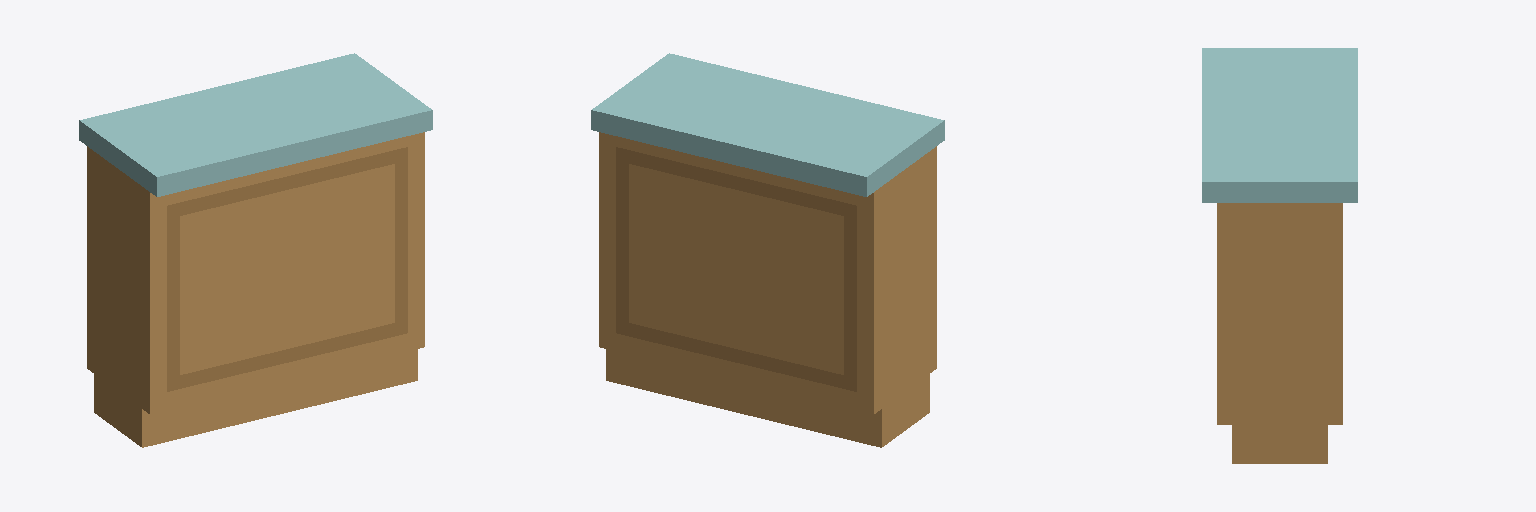
The model's file is kitchenBar.obj.
3 renders of one model, left to right at view 1: azimuth 30°, elevation 25°; view 2: azimuth 150°, elevation 25°; view 3: azimuth 270°, elevation 25°, orthographic.
Visible parts, largest first — view 1: kitchenBar; view 2: kitchenBar; view 3: kitchenBar.
Part boxes in pixels (left/top/right/bottom): kitchenBar: left=79, top=53, right=432, bottom=447; kitchenBar: left=591, top=53, right=944, bottom=447; kitchenBar: left=1202, top=48, right=1357, bottom=463.
Bounding box in the file's own units: 4.3 × 4.2 × 2.1.